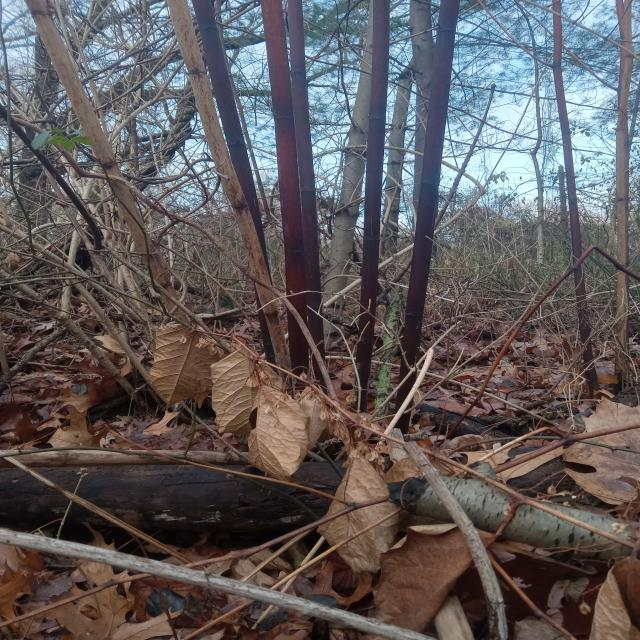knotweed-stems: (165, 0, 292, 388), (390, 1, 460, 434), (259, 0, 327, 388)
